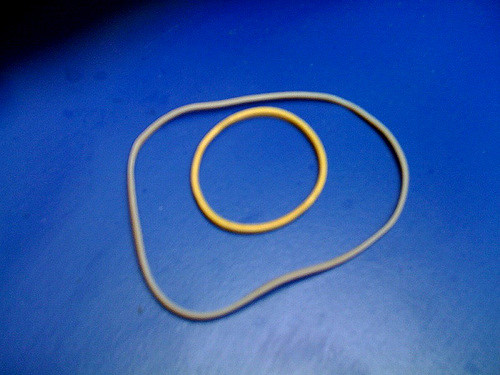plain spaghetti: (126, 136, 158, 288)
